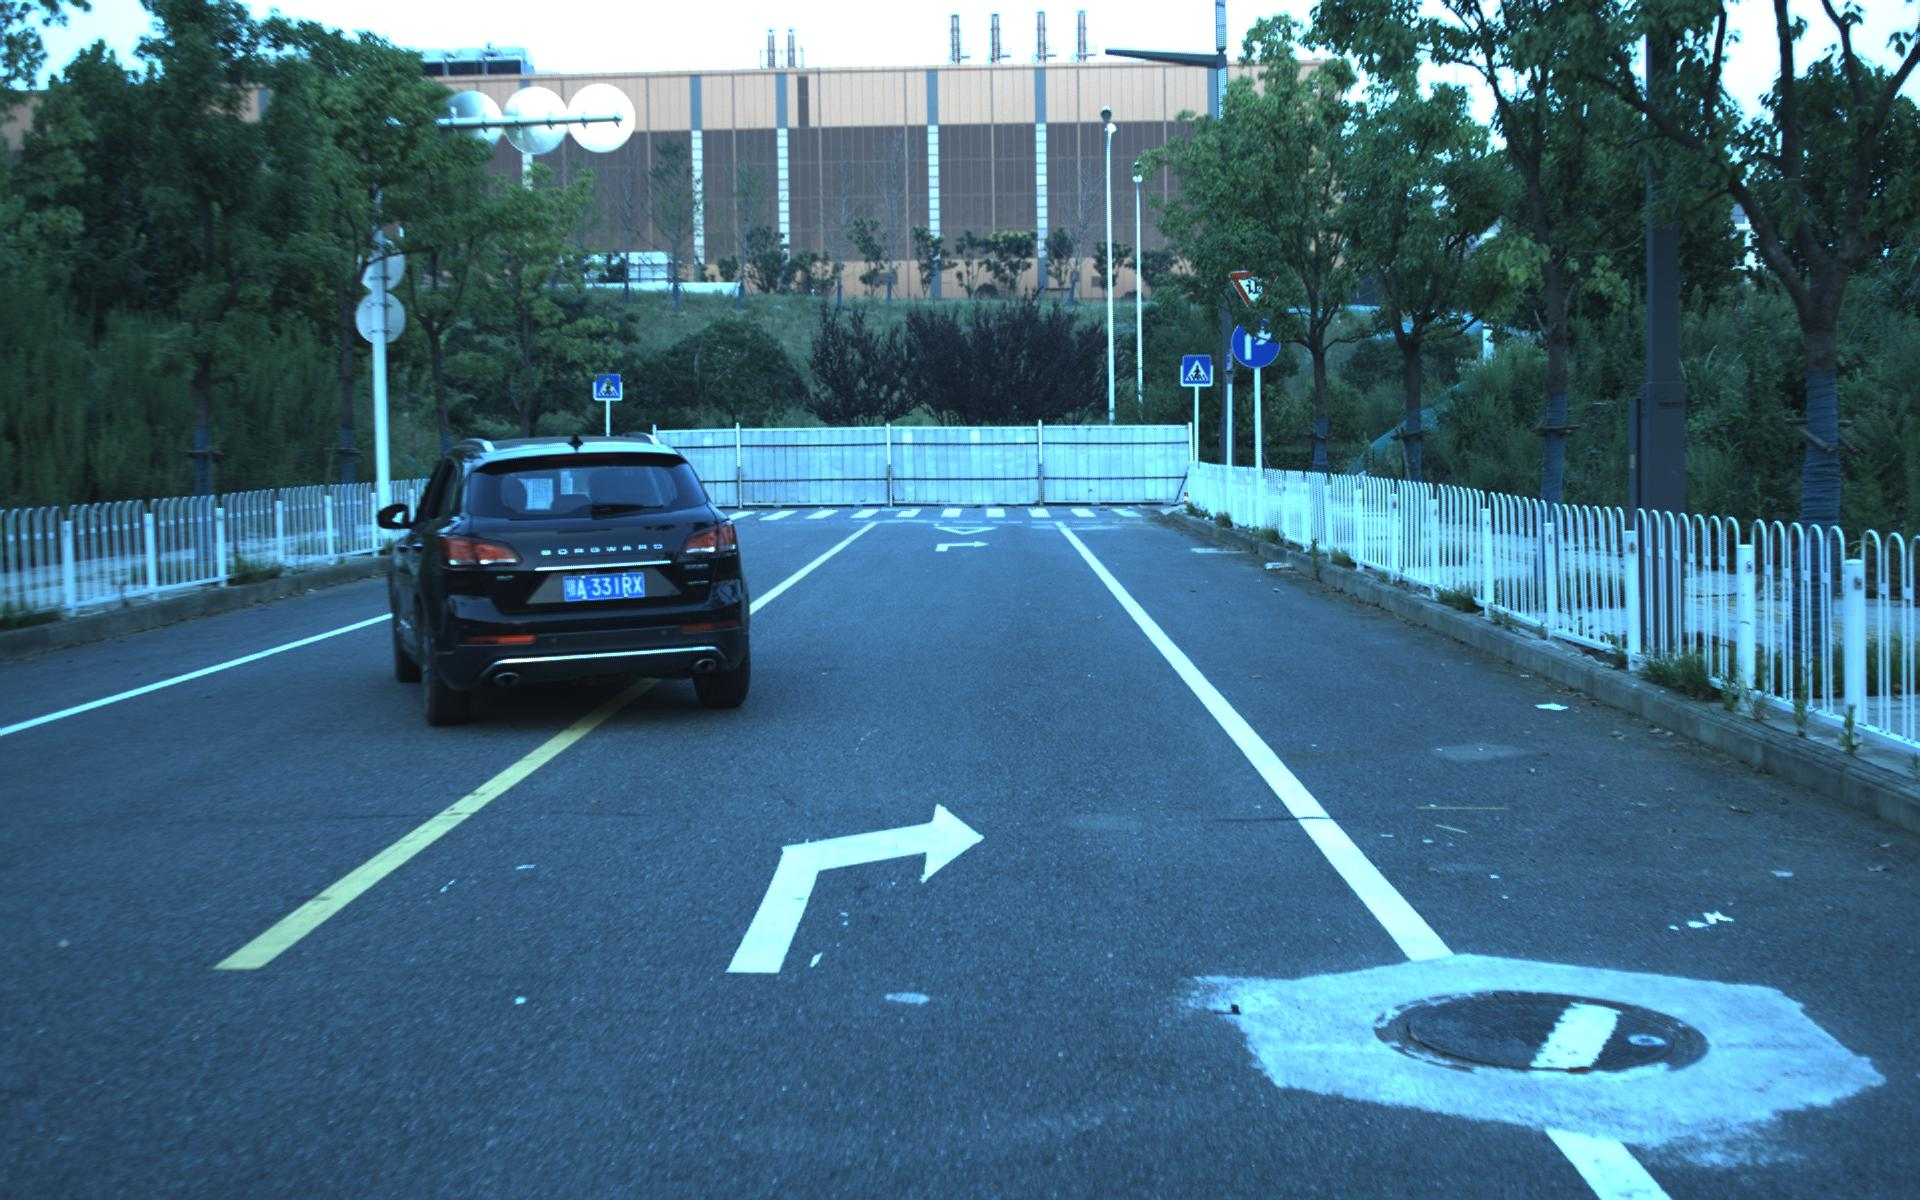Car: (380, 427, 764, 733)
